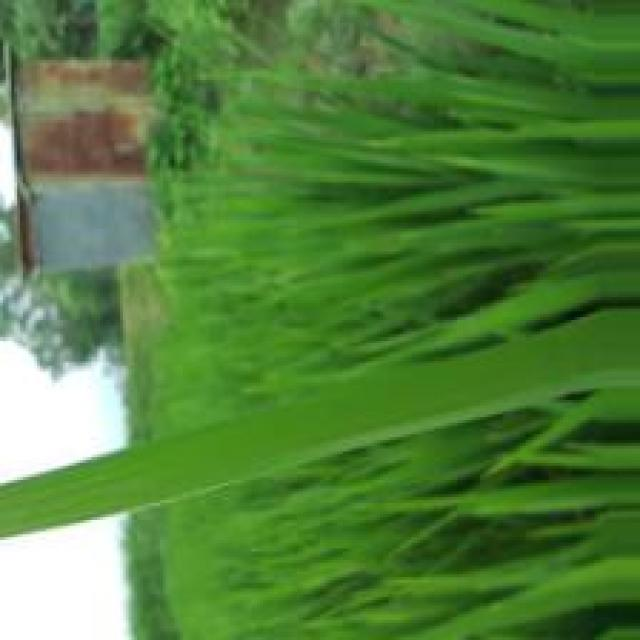HealthyLeaf: (56, 314, 637, 520)
